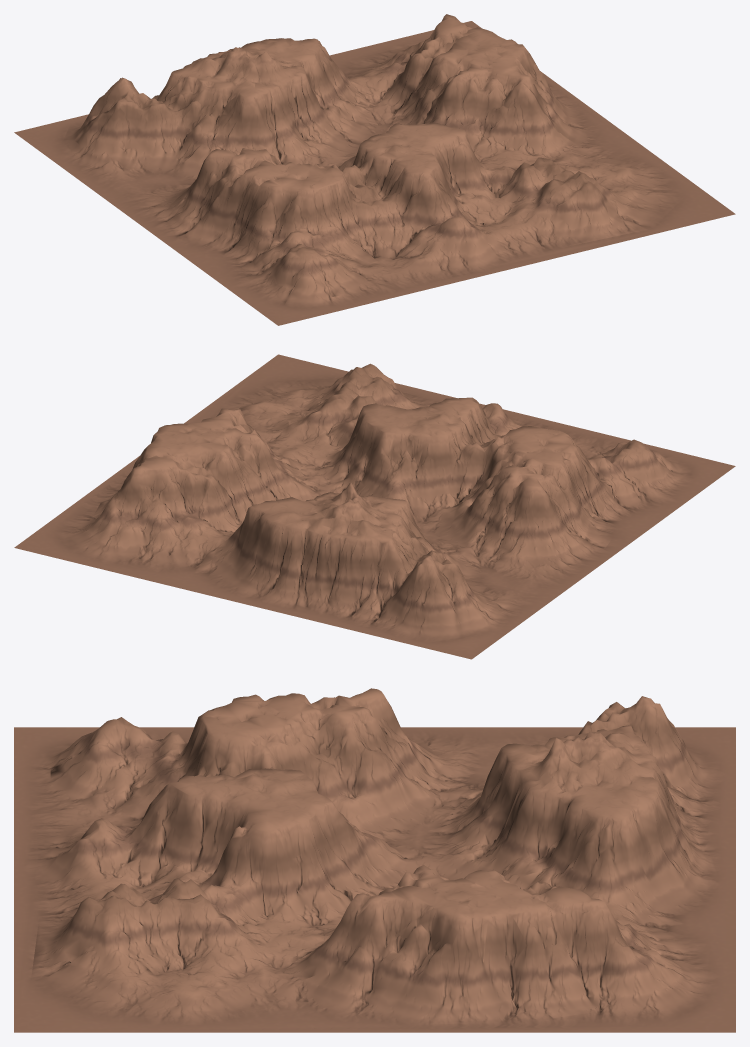
Rendered from antTextureBaked.glb.
3 renders of one model, top to bottom at view 1: azimuth 30°, elevation 25°; view 2: azimuth 150°, elevation 25°; view 3: azimuth 270°, elevation 25°, orthographic. The views are drawn at different scales.
Parts seen in each view (by area): view 1: Landscape; view 2: Landscape; view 3: Landscape.
Part boxes in pixels (left/top/right/bottom): Landscape: left=14, top=14, right=735, bottom=325; Landscape: left=14, top=354, right=735, bottom=659; Landscape: left=14, top=688, right=735, bottom=1032.
Size of the model in its own units: 2 by 0.35 by 2.
1 material, 1 textured.
